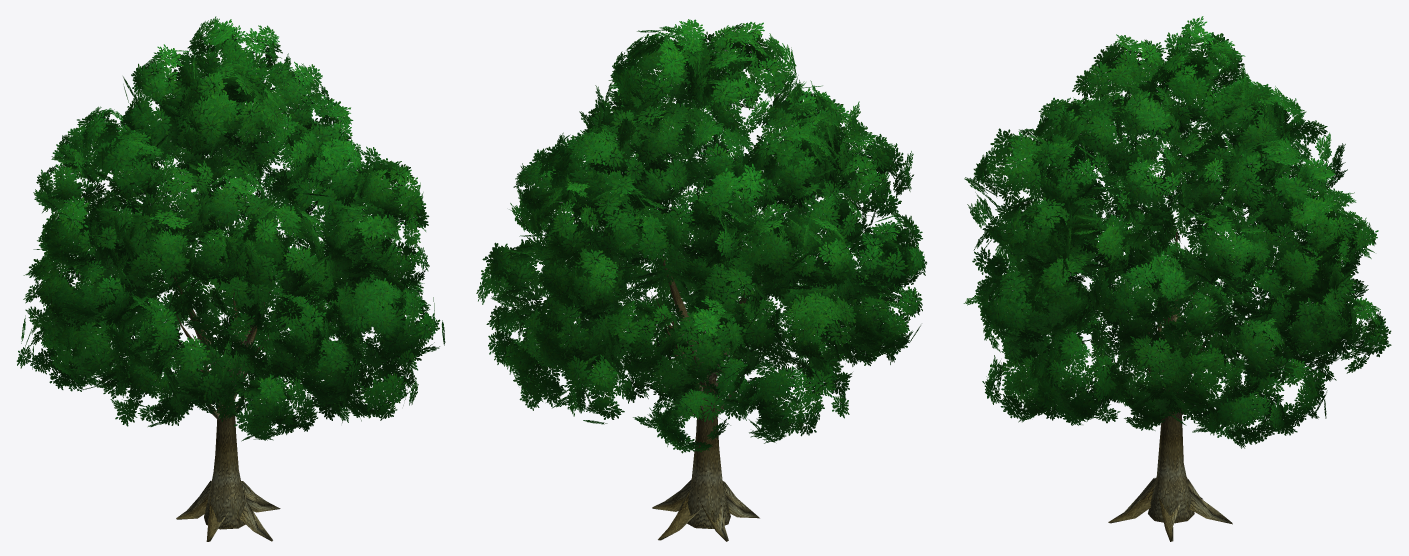
Rendered from mm6_deco_tree06.glb.
3 renders of one model, left to right at view 1: azimuth 30°, elevation 25°; view 2: azimuth 150°, elevation 25°; view 3: azimuth 270°, elevation 25°, orthographic. The views are drawn at different scales.
Parts seen in each view (by area): view 1: Tree; view 2: Tree; view 3: Tree.
Part boxes in pixels (left/top/right/bottom): Tree: left=16, top=16, right=445, bottom=541; Tree: left=476, top=19, right=926, bottom=541; Tree: left=963, top=16, right=1391, bottom=541.
Size of the model in its own units: 5.87 by 7.1 by 5.73.
2 materials, 2 textured.
